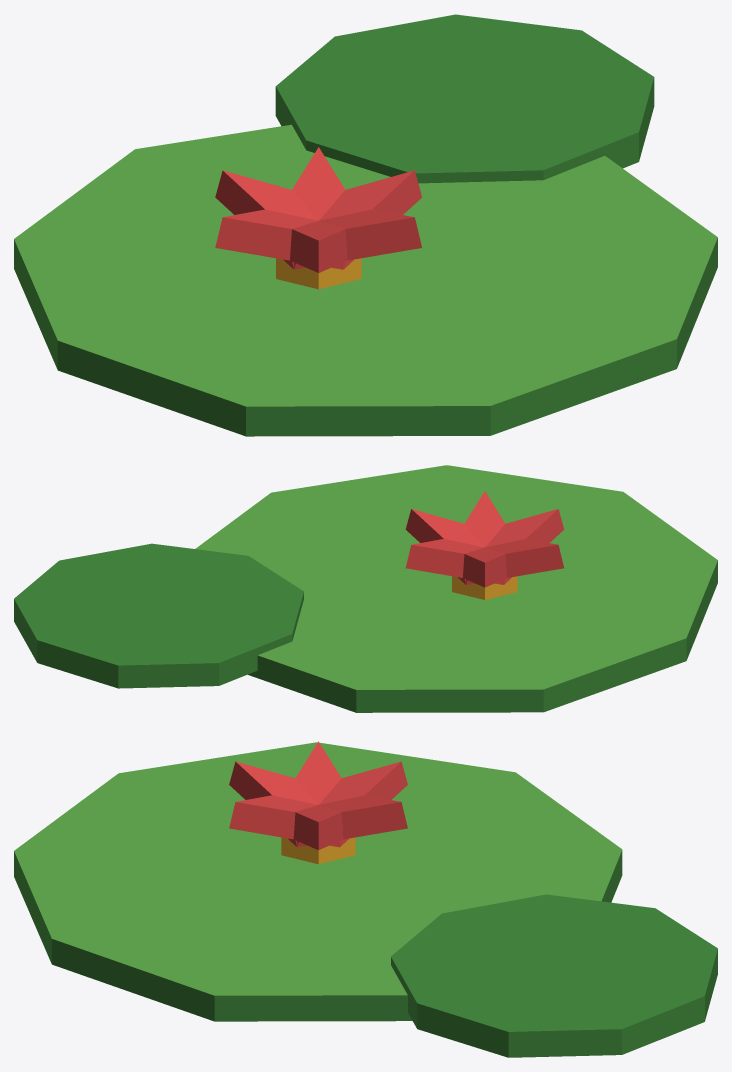
Rendered from lily_large.glb.
3 renders of one model, top to bottom at view 1: azimuth 30°, elevation 25°; view 2: azimuth 150°, elevation 25°; view 3: azimuth 270°, elevation 25°, orthographic. The views are drawn at different scales.
Visible parts, largest first — view 1: lily_large; view 2: lily_large; view 3: lily_large.
Boxes of the visible parts, x1,y1,x2,y2 form: lily_large: (14, 14, 717, 436); lily_large: (14, 465, 717, 712); lily_large: (14, 741, 717, 1057).
Size of the model in its own units: 0.2971 by 0.045 by 0.2963.
1 material, 1 textured.
